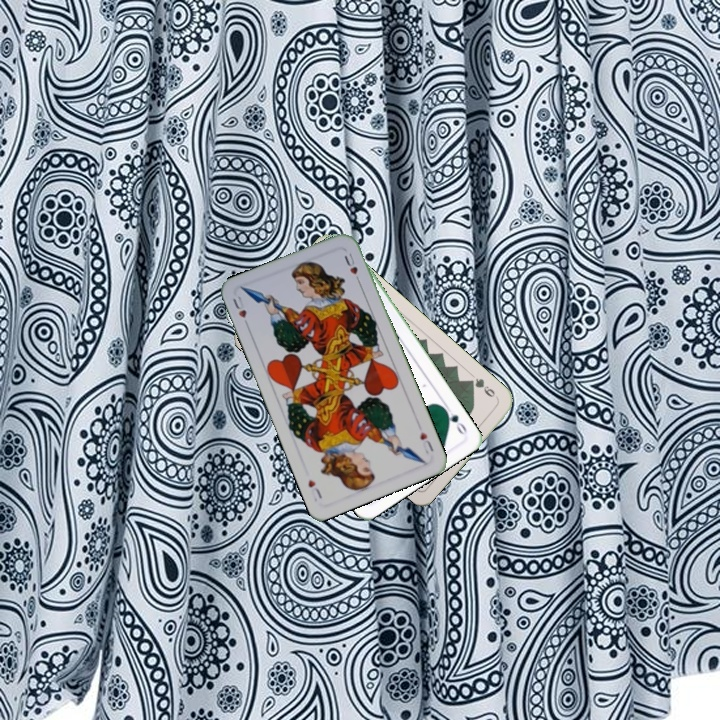G9: (464, 374, 501, 402)
GO: (439, 401, 470, 437)
HU: (229, 291, 252, 330), (416, 428, 436, 457)
